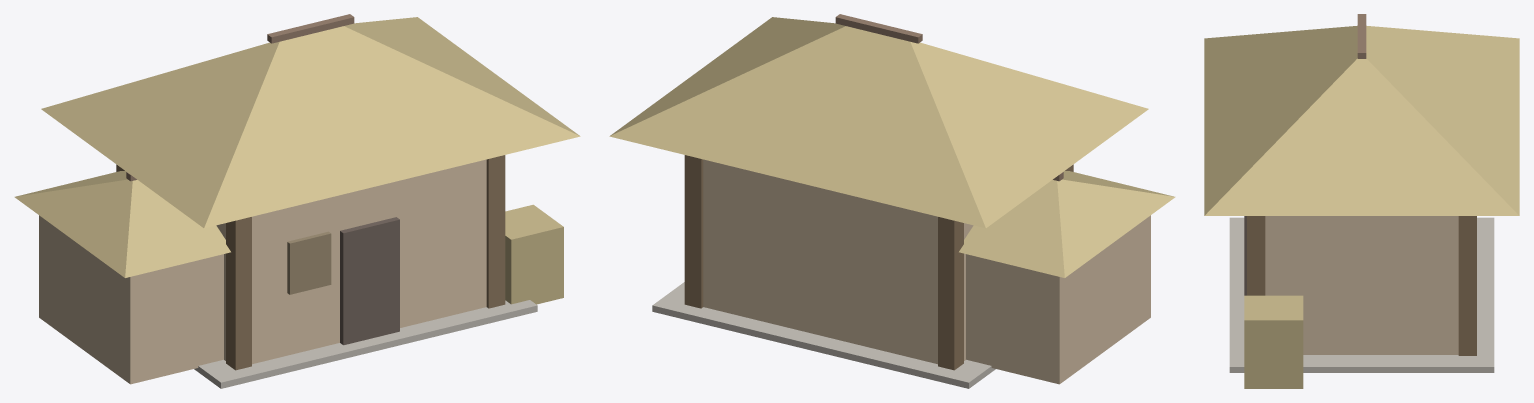
The model's file is farmhouse_b.glb.
The picture shows the model from 3 angles, left to right: view 1: azimuth 30°, elevation 25°; view 2: azimuth 150°, elevation 25°; view 3: azimuth 270°, elevation 25°; orthographic projection. The views are drawn at different scales.
Size of the model in its own units: 5.75 by 3.48 by 3.75.
